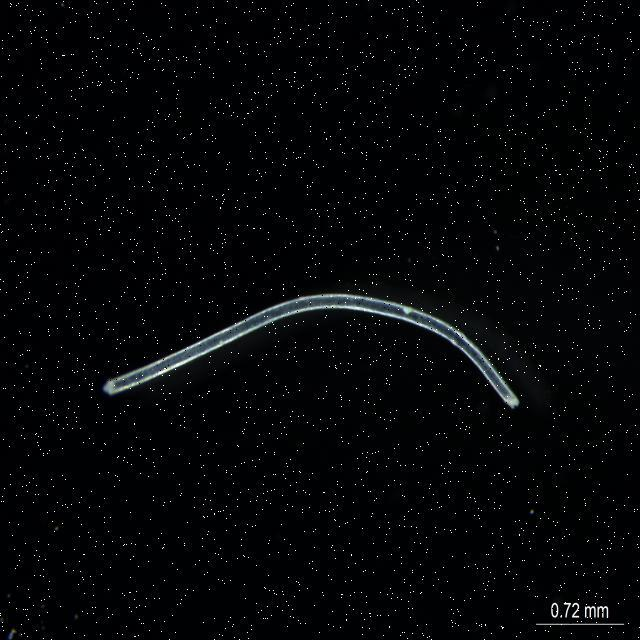fiber: (100, 287, 525, 425)
